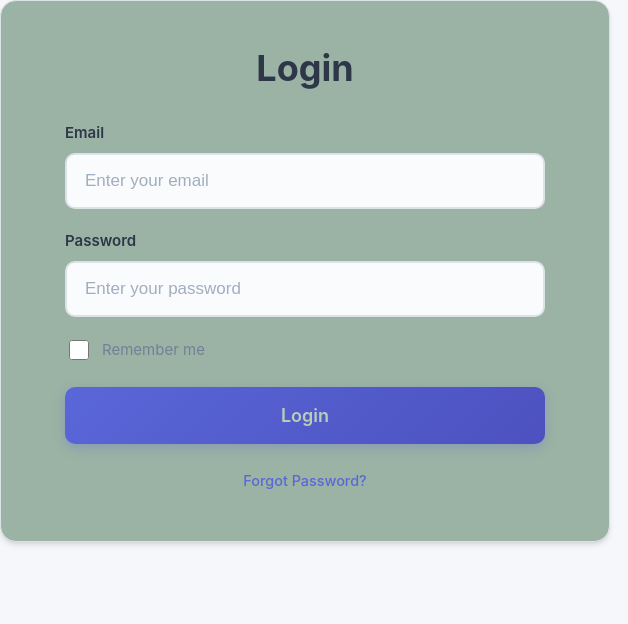
Scenario: LoginForm › form validation › should clear password error when user starts typing
# Submit empty form to trigger errors
Click the button with test id "login-submit".
click(305, 415)  # box [65,387,545,444]
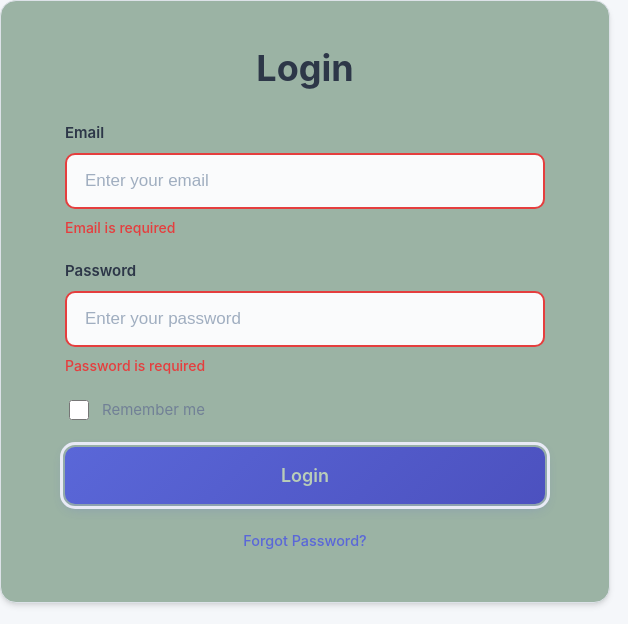
Now the text "Password is required" is shown, box [65,357,205,374]
# Start typing in password field
Type "p" into the password field with test id "password-input".
click(305, 319); type("p")  # box [65,291,545,347]
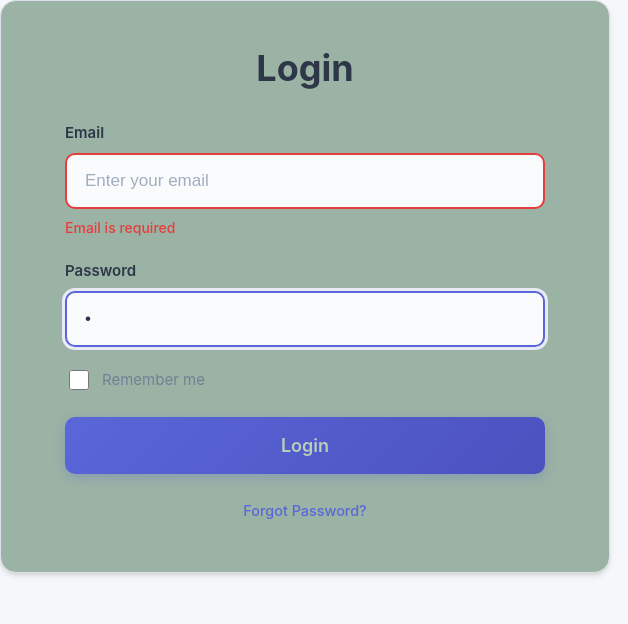
Now the text "Password is required" is gone
